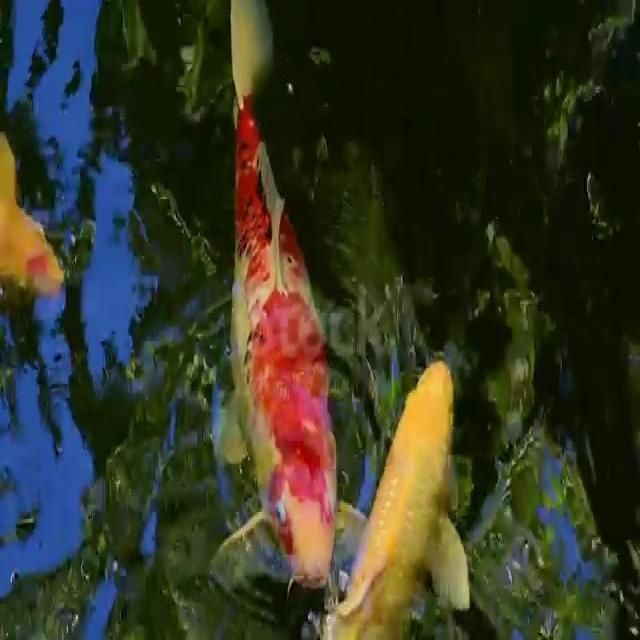fish: (203, 0, 349, 587), (328, 359, 471, 640)
